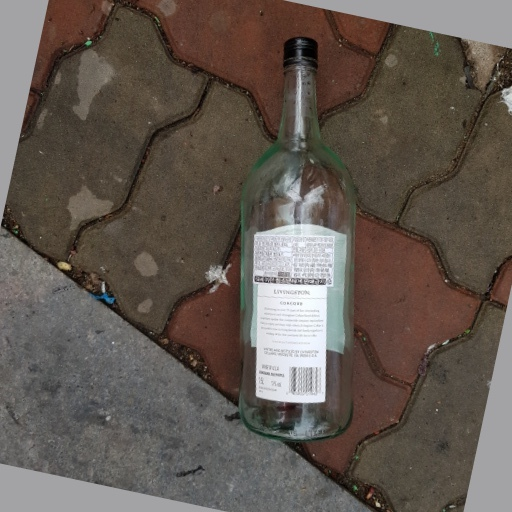Glass_2: (235, 33, 357, 442)
